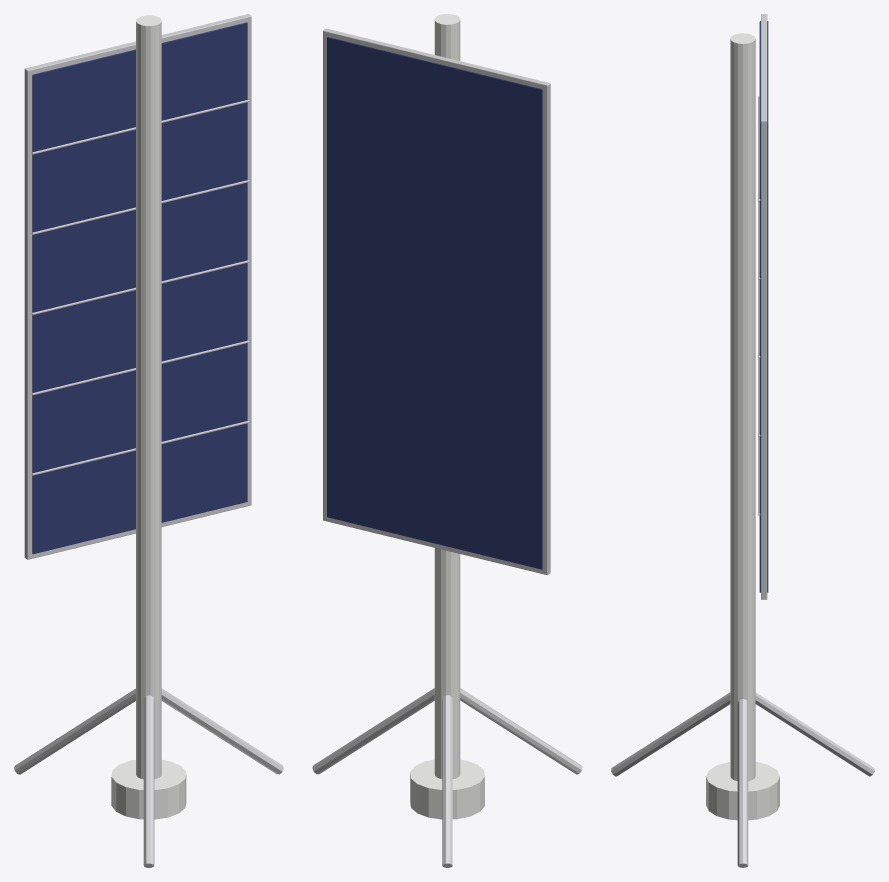
The model's file is solarTower.glb.
The picture shows the model from 3 angles, left to right: view 1: azimuth 30°, elevation 25°; view 2: azimuth 150°, elevation 25°; view 3: azimuth 270°, elevation 25°; orthographic projection. The views are drawn at different scales.
Visible parts, largest first — view 1: panel, mast; view 2: panel, mast; view 3: mast, panel.
Part boxes in pixels (box(x1,y1,x2,y2)): panel: box(24, 14, 251, 559); mast: box(14, 15, 283, 867); panel: box(323, 28, 550, 575); mast: box(312, 14, 582, 867); mast: box(611, 33, 874, 867); panel: box(758, 14, 768, 599).
Size of the model in its own units: 2.63 by 8.02 by 2.5.
